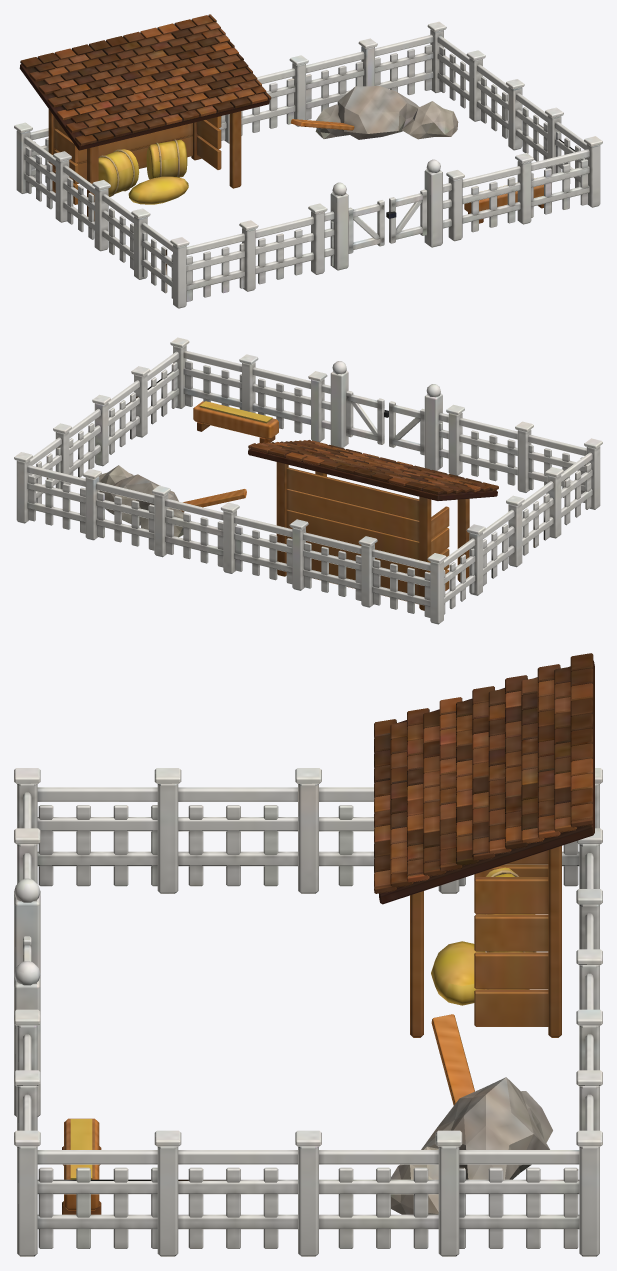
The model's file is saanen_yard.glb.
3 renders of one model, top to bottom at view 1: azimuth 30°, elevation 25°; view 2: azimuth 150°, elevation 25°; view 3: azimuth 270°, elevation 25°, orthographic. The views are drawn at different scales.
Visible parts, largest first — view 1: saanen_yard, gate1, gate0; view 2: saanen_yard, gate1, gate0; view 3: saanen_yard.
Part boxes in pixels (bbox=[...]): saanen_yard: bbox=[14, 14, 602, 308]; gate1: bbox=[386, 189, 427, 243]; gate0: bbox=[348, 200, 384, 253]; saanen_yard: bbox=[14, 337, 602, 624]; gate1: bbox=[346, 390, 388, 444]; gate0: bbox=[389, 401, 424, 455]; saanen_yard: bbox=[14, 653, 602, 1256].
Bounding box in the file's own units: 2.99 × 0.9342 × 1.99.
1 material, 1 textured.
